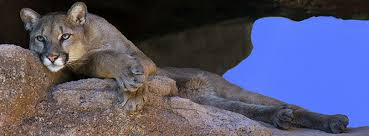Mountain Lion: (19, 6, 157, 93)
